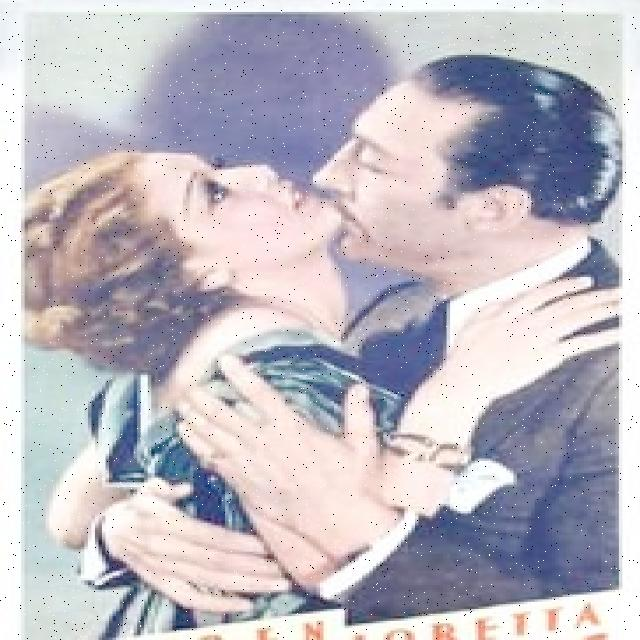picture: (30, 11, 613, 624)
